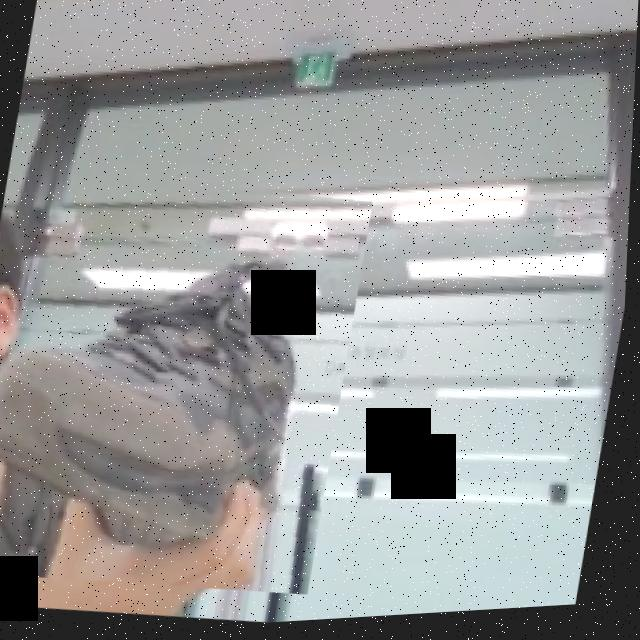shoe: (0, 145, 378, 614)
